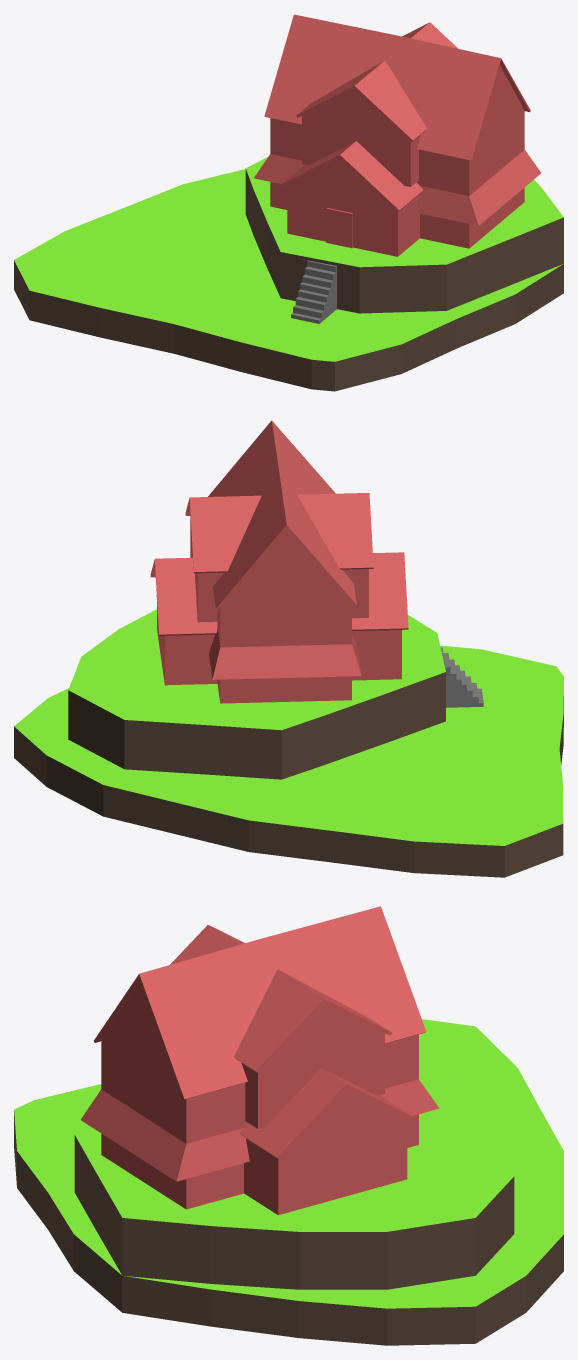
The model's file is jarlshouse.fbx.
The picture shows the model from 3 angles, top to bottom: view 1: azimuth 30°, elevation 25°; view 2: azimuth 150°, elevation 25°; view 3: azimuth 270°, elevation 25°; orthographic projection. The views are drawn at different scales.
Visible parts, largest first — view 1: hill (×2), housepart7, stair1; view 2: hill (×2), housepart7, stair1; view 3: hill (×2), housepart7.
Part boxes in pixels (x1,y1,x2,y2): hill (×2): (14,157,563,391); housepart7: (254,14,541,256); stair1: (291,260,336,323); hill (×2): (14,609,563,877); housepart7: (150,420,408,703); stair1: (440,647,483,707); hill (×2): (14,1019,563,1345); housepart7: (80,906,439,1215).
Size of the model in its own units: 19.14 by 9.28 by 15.12.
